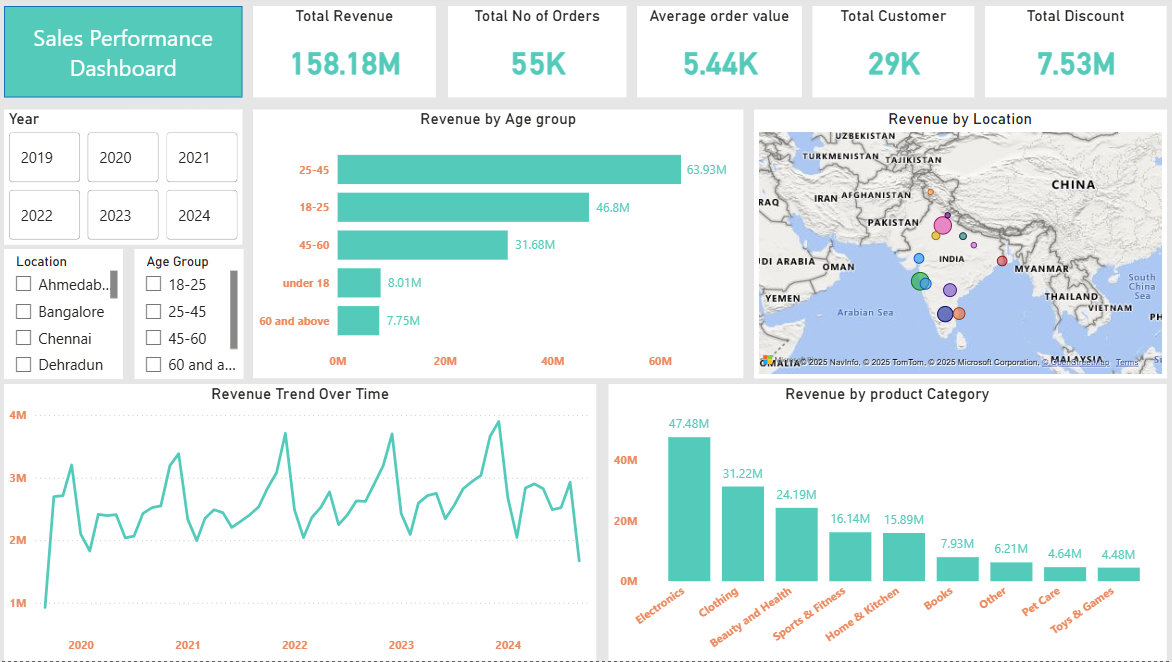

What the dashboard file says about the page in this screenshot:
{"tool":"powerbi","page":{"name":"Sales Performance Dashboard","canvas":[1280,720],"ordinal":0},"visuals":[{"type":"card","title":"Total Revenue ","fields":{"Values":["E-Commerce.Total Net Sales"]},"box":[281.7,13,197.5,98.8],"z":0},{"type":"card","title":"Total Discount ","fields":{"Values":["E-Commerce.Total Discount"]},"box":[1071.9,13,195.9,98.8],"z":1000},{"type":"card","title":"Total No of Orders","fields":{"Values":["E-Commerce.Total orders"]},"box":[492.2,13,192.7,98.8],"z":2000},{"type":"card","title":"Total Customer","fields":{"Values":["E-Commerce.Total Customer"]},"box":[885.7,13,174.9,98.8],"z":3000},{"type":"card","title":"Average order value","fields":{"Values":["E-Commerce.Average Order Value"]},"box":[696.3,13,178.1,98.8],"z":4000},{"type":"lineChart","title":"Revenue Trend Over Time","fields":{"Y":["E-Commerce.Total Revenue"],"Category":["E-Commerce.Purchase Date.Variation.Date Hierarchy.Year","E-Commerce.Purchase Date.Variation.Date Hierarchy.Quarter","E-Commerce.Purchase Date.Variation.Date Hierarchy.Month"]},"box":[13,421,639.6,299.6],"z":5000},{"type":"clusteredColumnChart","title":"Revenue by product Category","fields":{"Category":["E-Commerce.Product Category"],"Y":["E-Commerce.Total Revenue"]},"box":[665.5,421,602.4,299.6],"z":6000},{"type":"clusteredBarChart","title":"Revenue by Age group","fields":{"Category":["E-Commerce.Age Group"],"Y":["E-Commerce.Total Revenue"]},"box":[281.7,124.7,529.5,289.8],"z":7000},{"type":"map","title":"Revenue by Location","fields":{"Series":["E-Commerce.Location"],"Size":["E-Commerce.Total Revenue"],"Category":["E-Commerce.Location"]},"box":[822.6,124.7,445.3,289.8],"z":8000},{"type":"shape","box":[13,13,257.5,98.8],"z":8001},{"type":"advancedSlicerVisual","fields":{"Values":["E-Commerce.Purchase Date.Variation.Date Hierarchy.Year"]},"box":[13,124.7,257.5,145.7],"z":8002},{"type":"slicer","fields":{"Values":["E-Commerce.Location"]},"box":[13,275.3,127.9,139.3],"z":8003},{"type":"slicer","fields":{"Values":["E-Commerce.Age Group"]},"box":[153.8,275.3,116.6,139.3],"z":8004}]}

Visuals, with their boxes in screenshot pixels (x1, y1, x2, y2), scaled from the page's 1280x720 canvas onto the 1172x662 screenshot:
"Total Revenue " card: BBox(258, 12, 439, 103)
"Total Discount " card: BBox(981, 12, 1161, 103)
"Total No of Orders" card: BBox(451, 12, 627, 103)
"Total Customer" card: BBox(811, 12, 971, 103)
"Average order value" card: BBox(638, 12, 801, 103)
"Revenue Trend Over Time" lineChart: BBox(12, 387, 598, 661)
"Revenue by product Category" clusteredColumnChart: BBox(609, 387, 1161, 661)
"Revenue by Age group" clusteredBarChart: BBox(258, 115, 743, 381)
"Revenue by Location" map: BBox(753, 115, 1161, 381)
shape: BBox(12, 12, 248, 103)
advancedSlicerVisual - E-Commerce.Purchase Date.Variation.Date Hierarchy.Year: BBox(12, 115, 248, 249)
slicer - E-Commerce.Location: BBox(12, 253, 129, 381)
slicer - E-Commerce.Age Group: BBox(141, 253, 248, 381)
